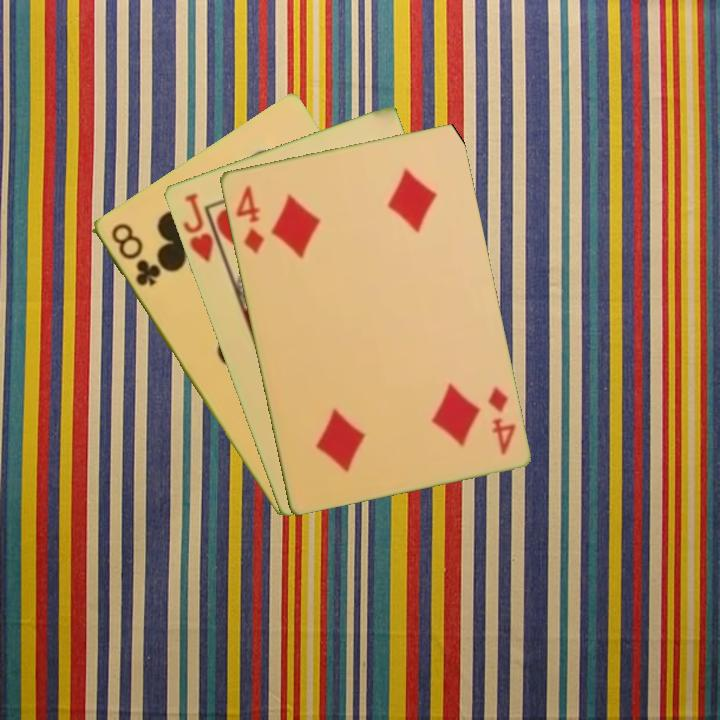4d: (483, 382, 518, 458), (232, 181, 267, 256)
8c: (107, 219, 163, 289)
Jh: (179, 189, 227, 265)
